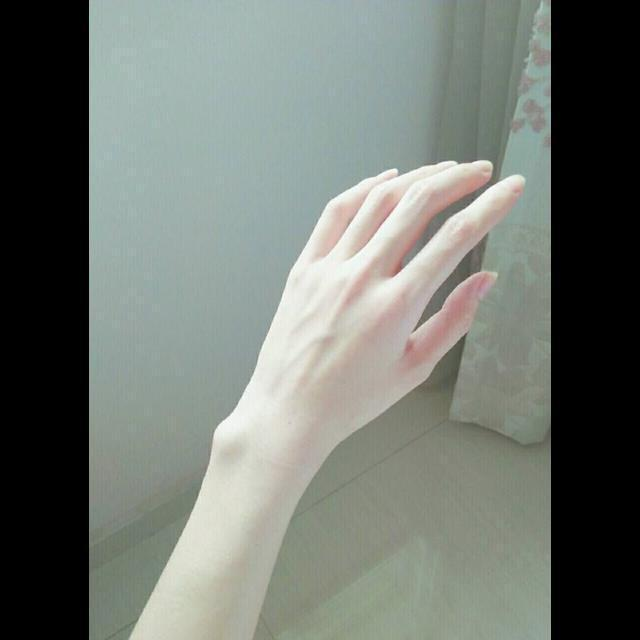bare_hand: (240, 154, 528, 414)
